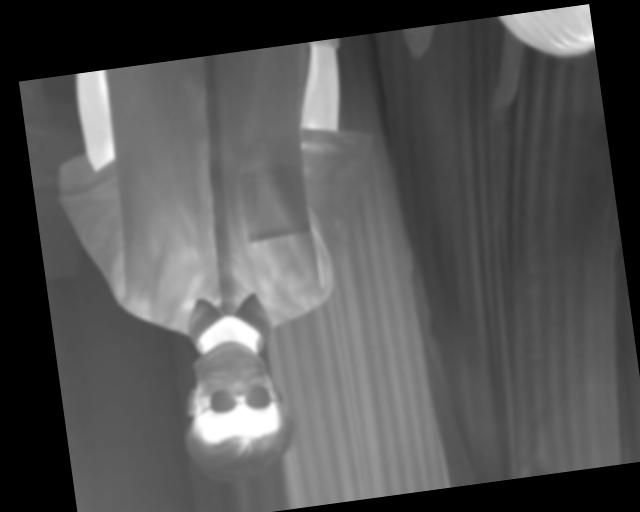face: (167, 332, 304, 488)
